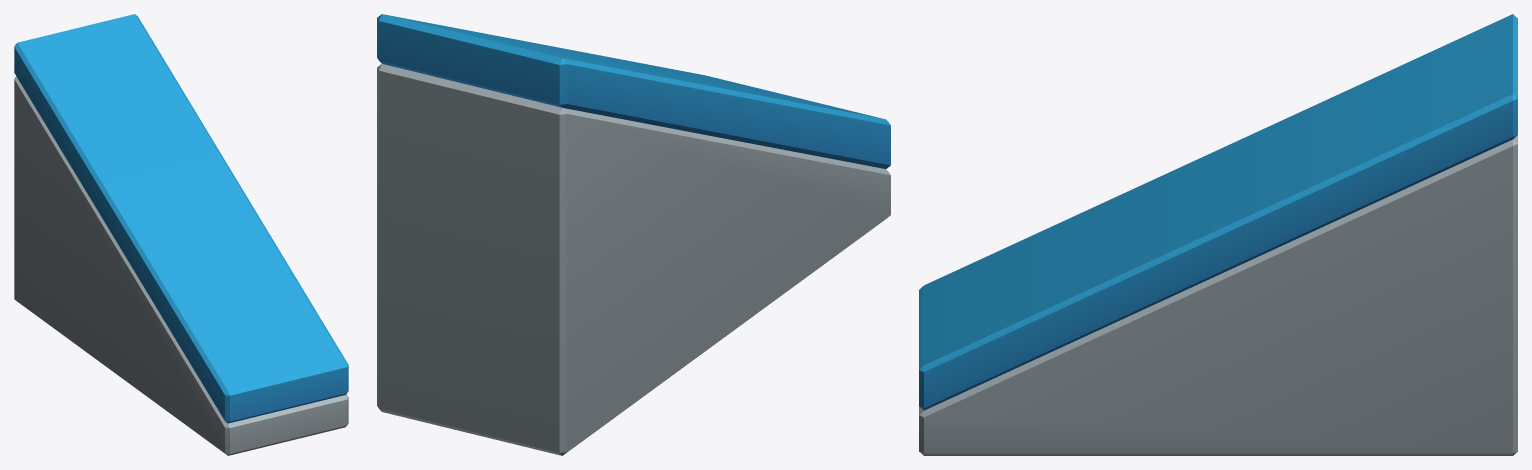
Rendered from platform_slope_2x6x4_blue.glb.
3 renders of one model, left to right at view 1: azimuth 30°, elevation 25°; view 2: azimuth 150°, elevation 25°; view 3: azimuth 270°, elevation 25°, orthographic. The views are drawn at different scales.
Visible parts, largest first — view 1: platform_slope_2x6x4_blue; view 2: platform_slope_2x6x4_blue; view 3: platform_slope_2x6x4_blue.
Boxes of the visible parts, x1,y1,x2,y2 form: platform_slope_2x6x4_blue: (14,14,348,455); platform_slope_2x6x4_blue: (377,14,890,455); platform_slope_2x6x4_blue: (919,14,1517,455).
Bounding box in the file's own units: 2 × 4 × 6.
Materials: 1 (1 with a texture image).
